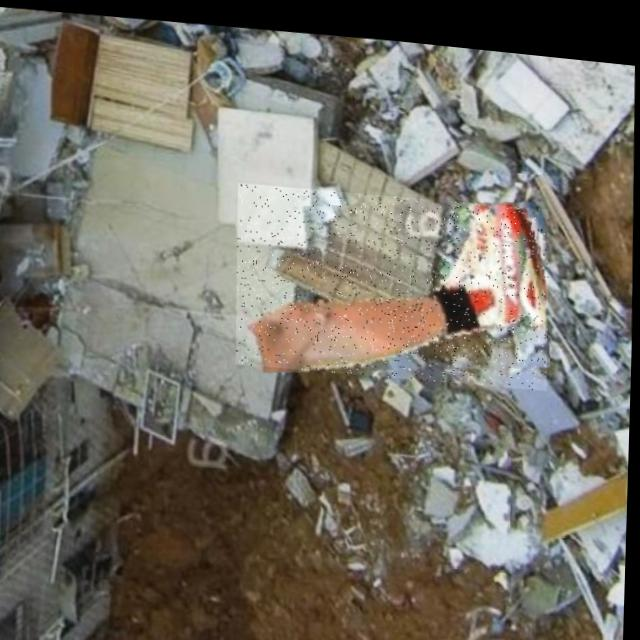Person in Rubble: (234, 171, 552, 382)
